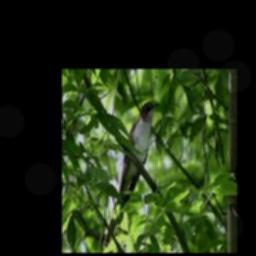Cuckoo: (103, 101, 159, 250)
